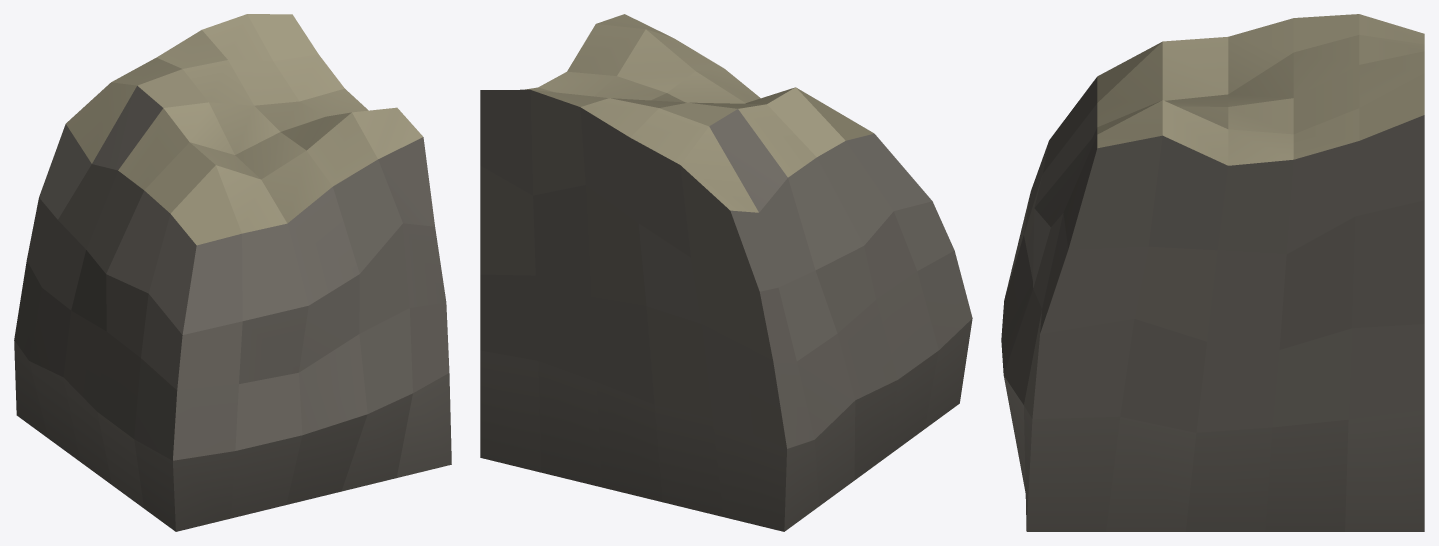
The model's file is roca_esquina.glb.
The picture shows the model from 3 angles, left to right: view 1: azimuth 30°, elevation 25°; view 2: azimuth 150°, elevation 25°; view 3: azimuth 270°, elevation 25°; orthographic projection. The views are drawn at different scales.
Visible parts, largest first — view 1: propforge-cuartos-roca_esquina; view 2: propforge-cuartos-roca_esquina; view 3: propforge-cuartos-roca_esquina.
Part boxes in pixels (bbox=[...]): propforge-cuartos-roca_esquina: bbox=[14, 14, 451, 531]; propforge-cuartos-roca_esquina: bbox=[480, 14, 972, 531]; propforge-cuartos-roca_esquina: bbox=[1001, 14, 1424, 531].
Size of the model in its own units: 0.9371 by 1.08 by 0.957.
